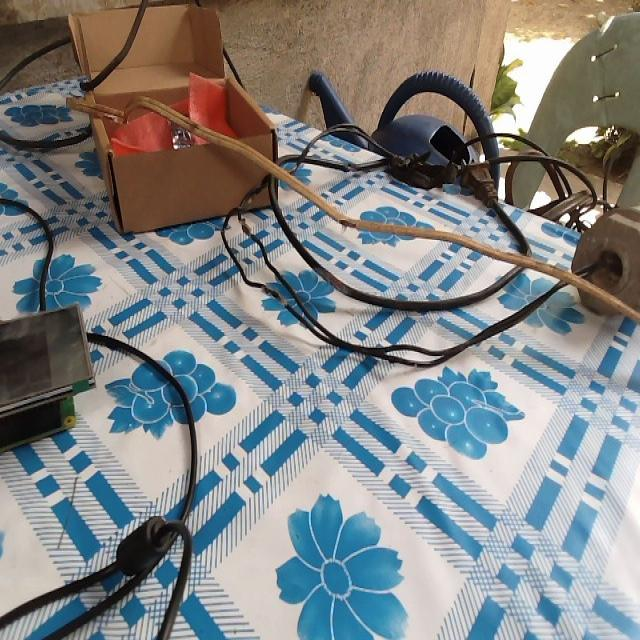-: (315, 264, 348, 292), (258, 282, 288, 306), (337, 216, 359, 225)
